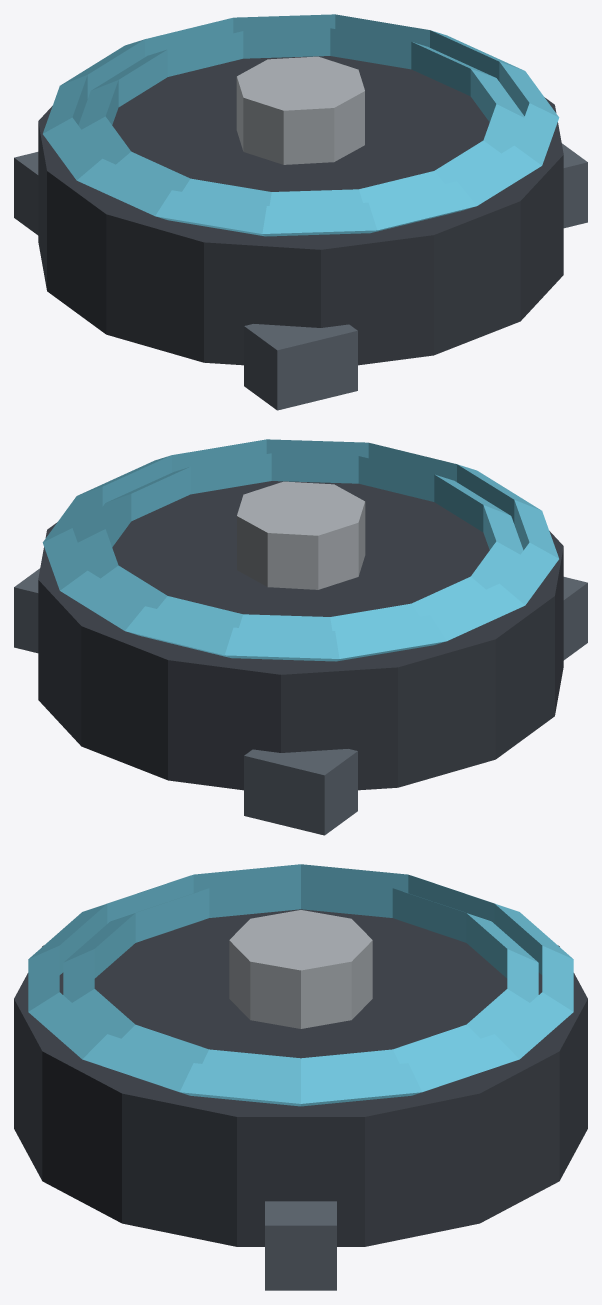
Rendered from droid-repulsor-lifts-fine.glb.
3 views of the same model, one above another, from view 1: azimuth 30°, elevation 25°; view 2: azimuth 150°, elevation 25°; view 3: azimuth 270°, elevation 25° (orthographic). The views are drawn at different scales.
Visible parts, largest first — view 1: m; view 2: m; view 3: m.
Boxes of the visible parts, x1=… form: m: x1=14, y1=14, x2=587, y2=410; m: x1=14, y1=439, x2=587, y2=835; m: x1=14, y1=864, x2=587, y2=1290.
Bounding box in the file's own units: 0.1 × 0.0372 × 0.093.
